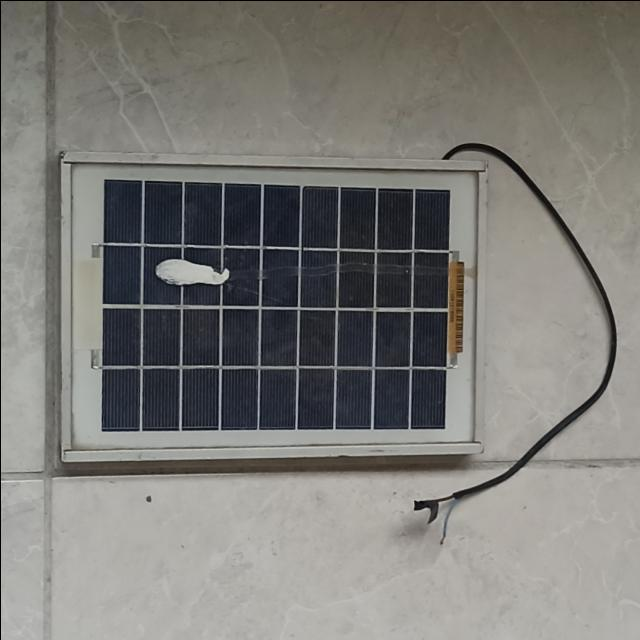faulty: (64, 156, 488, 462)
